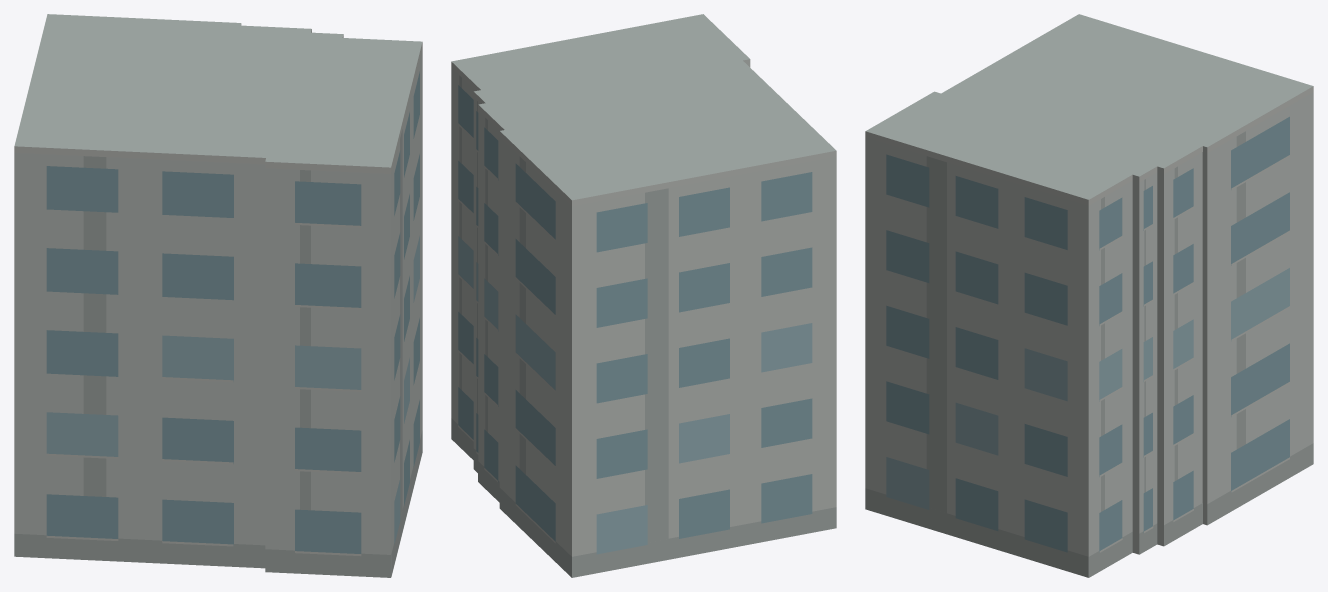
File: survey-upis-33019090.glb
3 renders of one model, left to right at view 1: azimuth 30°, elevation 25°; view 2: azimuth 150°, elevation 25°; view 3: azimuth 270°, elevation 25°, orthographic. The views are drawn at different scales.
Parts seen in each view (by area): view 1: survey-upis-33019090.tmp; view 2: survey-upis-33019090.tmp; view 3: survey-upis-33019090.tmp.
Part boxes in pixels (box(x1,y1,x2,y2)): survey-upis-33019090.tmp: box(14, 14, 422, 577); survey-upis-33019090.tmp: box(451, 14, 836, 577); survey-upis-33019090.tmp: box(865, 14, 1313, 577).
Bounding box in the file's own units: 16.04 × 15.2 × 16.34.
